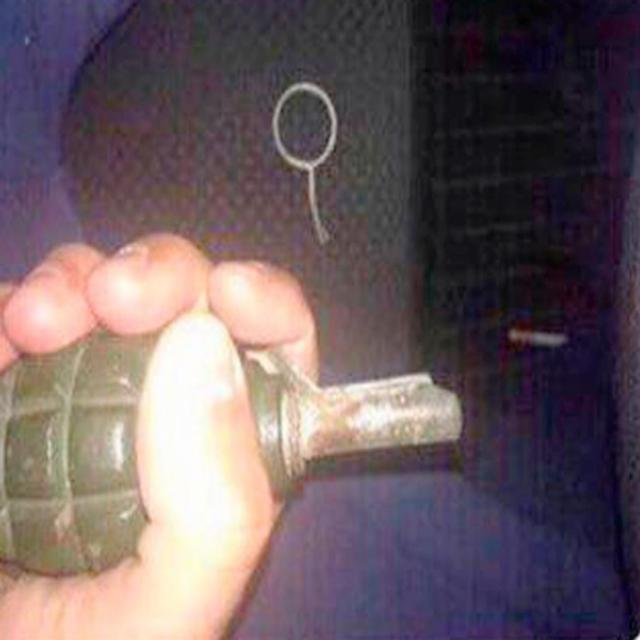grenade: (2, 326, 463, 582)
